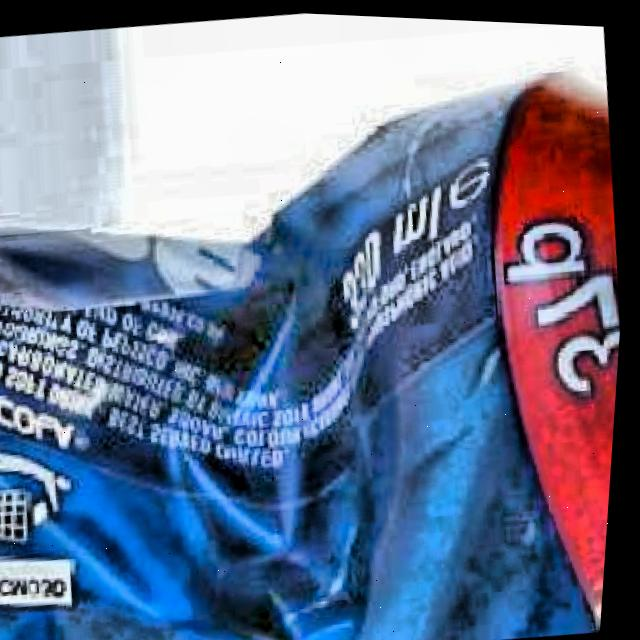metal: (0, 61, 624, 640)
